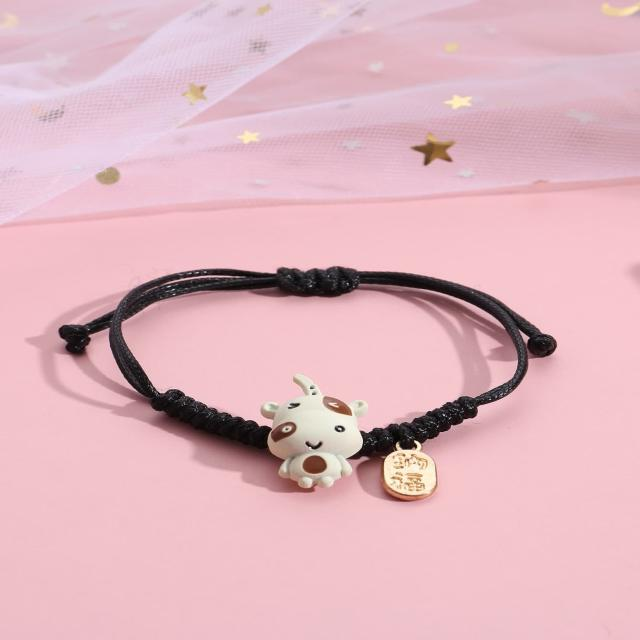bracelet: (27, 238, 640, 537)
